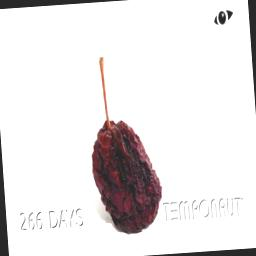Apple Rotten: (68, 14, 184, 240)
